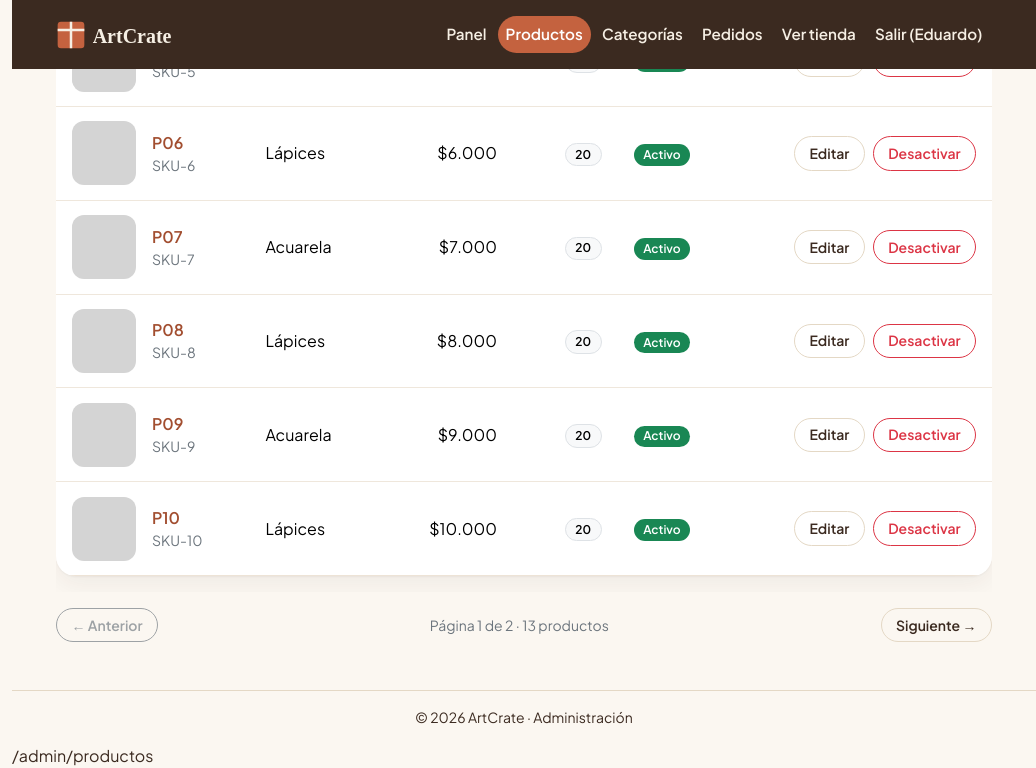
Test: Lista de productos del panel › pagina de a 10, con los activos primero y los inactivos al final
(page scrolled)
Check: the text "Página 1 de 2 · 13 productos" is shown, box x1=430 y1=614 x2=609 y2=636
Check: the button "← Anterior" is disabled, box x1=56 y1=608 x2=158 y2=642
What coordinates should you click on to do the following:
click the button "Siguiente →"
I would click on:
 (936, 625)
Its box is x1=881 y1=608 x2=992 y2=642.
(page scrolled)
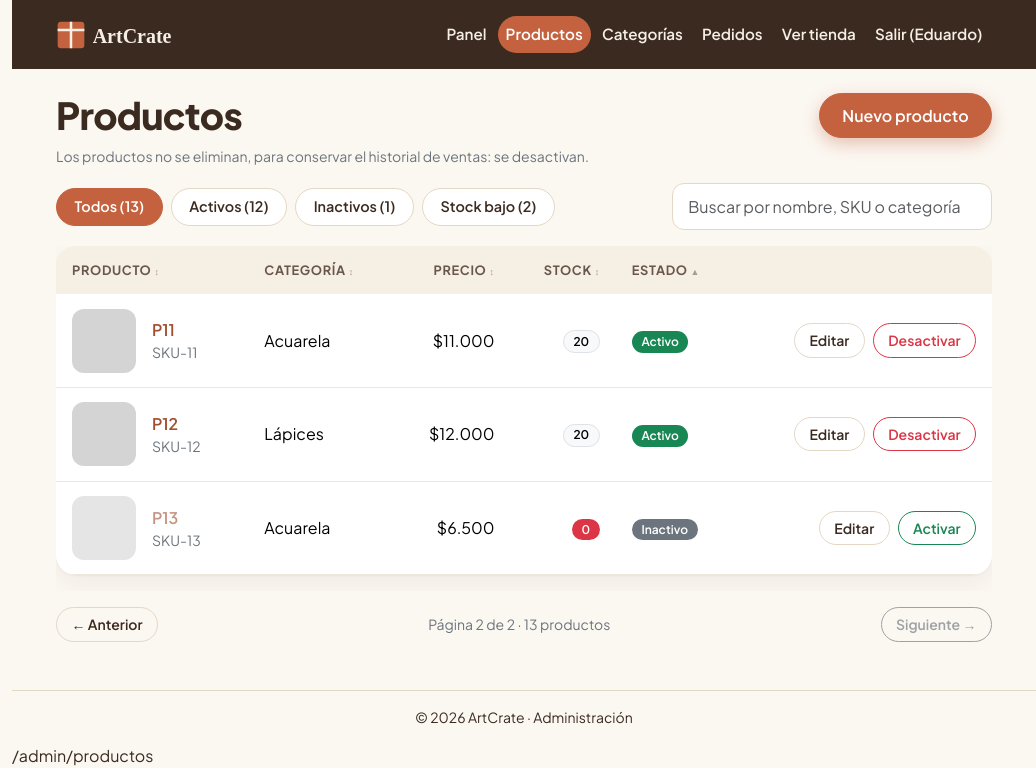
Check: the button "Siguiente →" is disabled, box x1=881 y1=608 x2=992 y2=642
